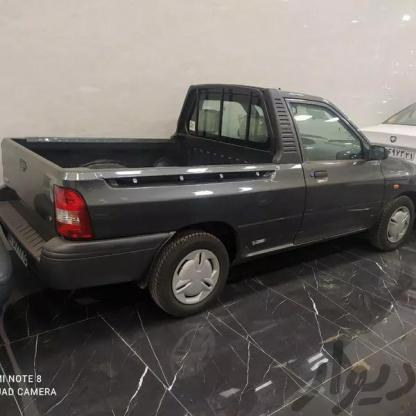Car: (0, 76, 399, 333), (351, 100, 416, 183)
